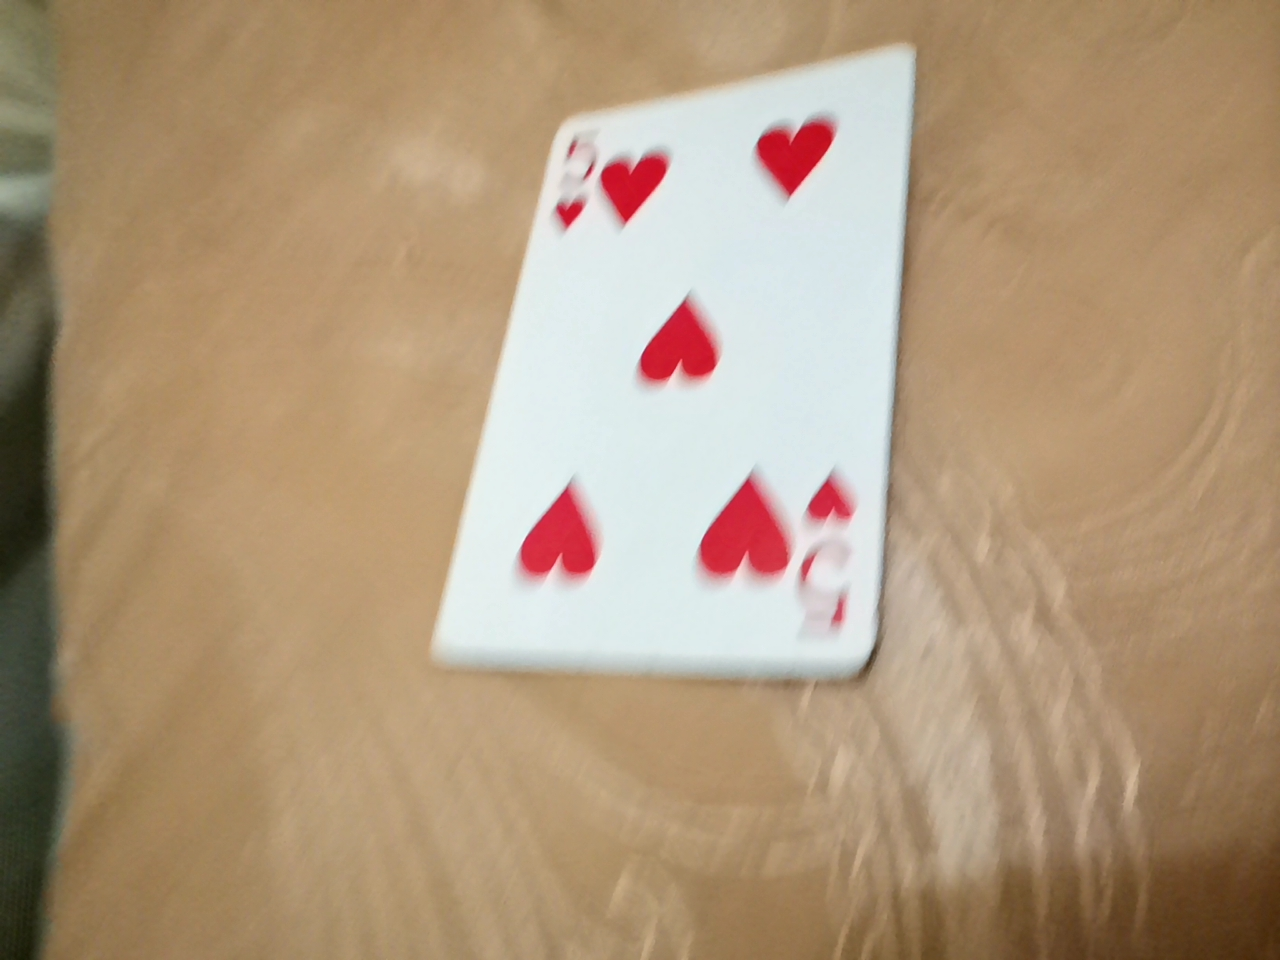hx 5: (479, 13, 935, 629)
